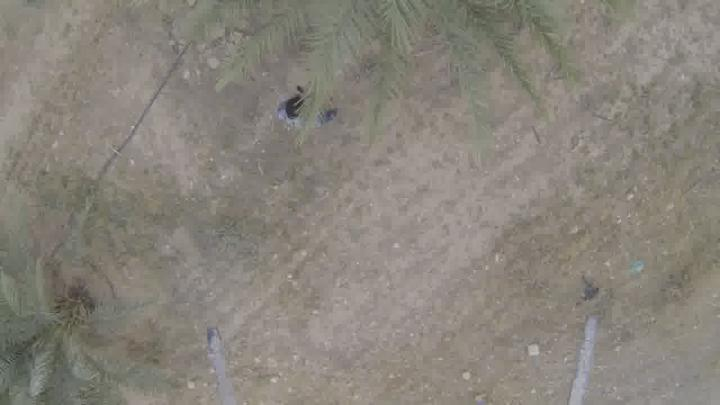Date-Palm-Crown: (253, 1, 551, 66), (0, 268, 103, 404)
